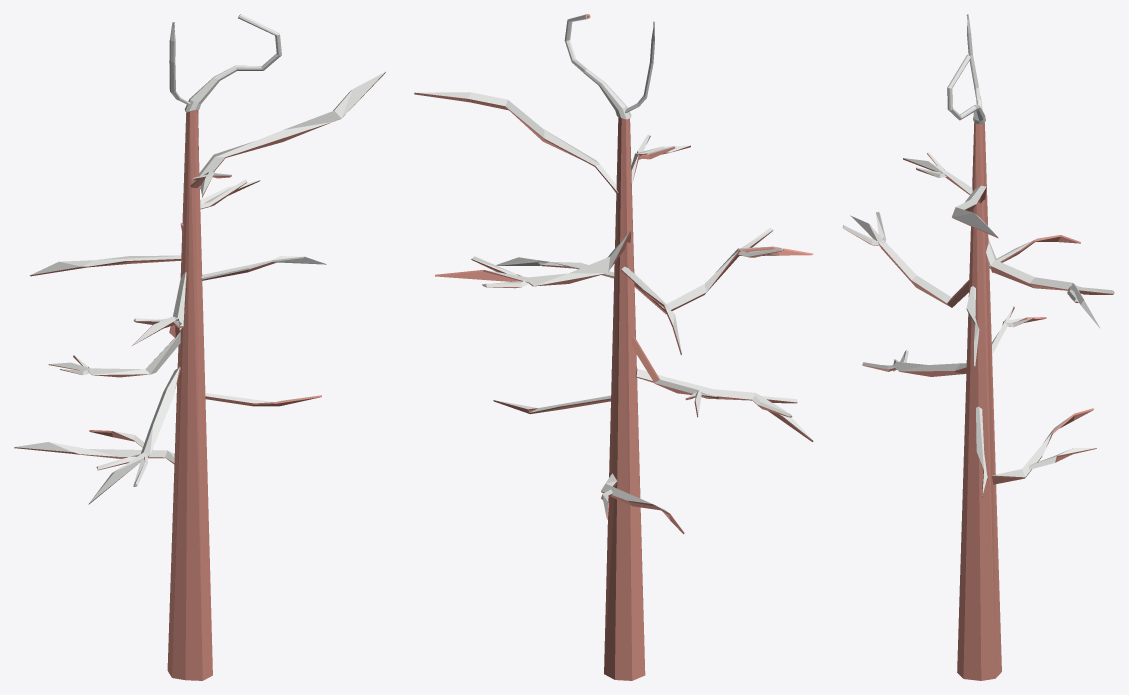
File: Drzewo_bez_lisci_snieg2.fbx
3 renders of one model, left to right at view 1: azimuth 30°, elevation 25°; view 2: azimuth 150°, elevation 25°; view 3: azimuth 270°, elevation 25°, orthographic. The views are drawn at different scales.
Visible parts, largest first — view 1: Drzewo_bez_lisci_snieg2_LOD0; view 2: Drzewo_bez_lisci_snieg2_LOD0; view 3: Drzewo_bez_lisci_snieg2_LOD0.
Part boxes in pixels (bbox=[...]): Drzewo_bez_lisci_snieg2_LOD0: bbox=[14, 14, 385, 680]; Drzewo_bez_lisci_snieg2_LOD0: bbox=[414, 14, 813, 680]; Drzewo_bez_lisci_snieg2_LOD0: bbox=[842, 14, 1114, 680].
Size of what is drawn, in the model's own units: 226 by 406 by 155.
